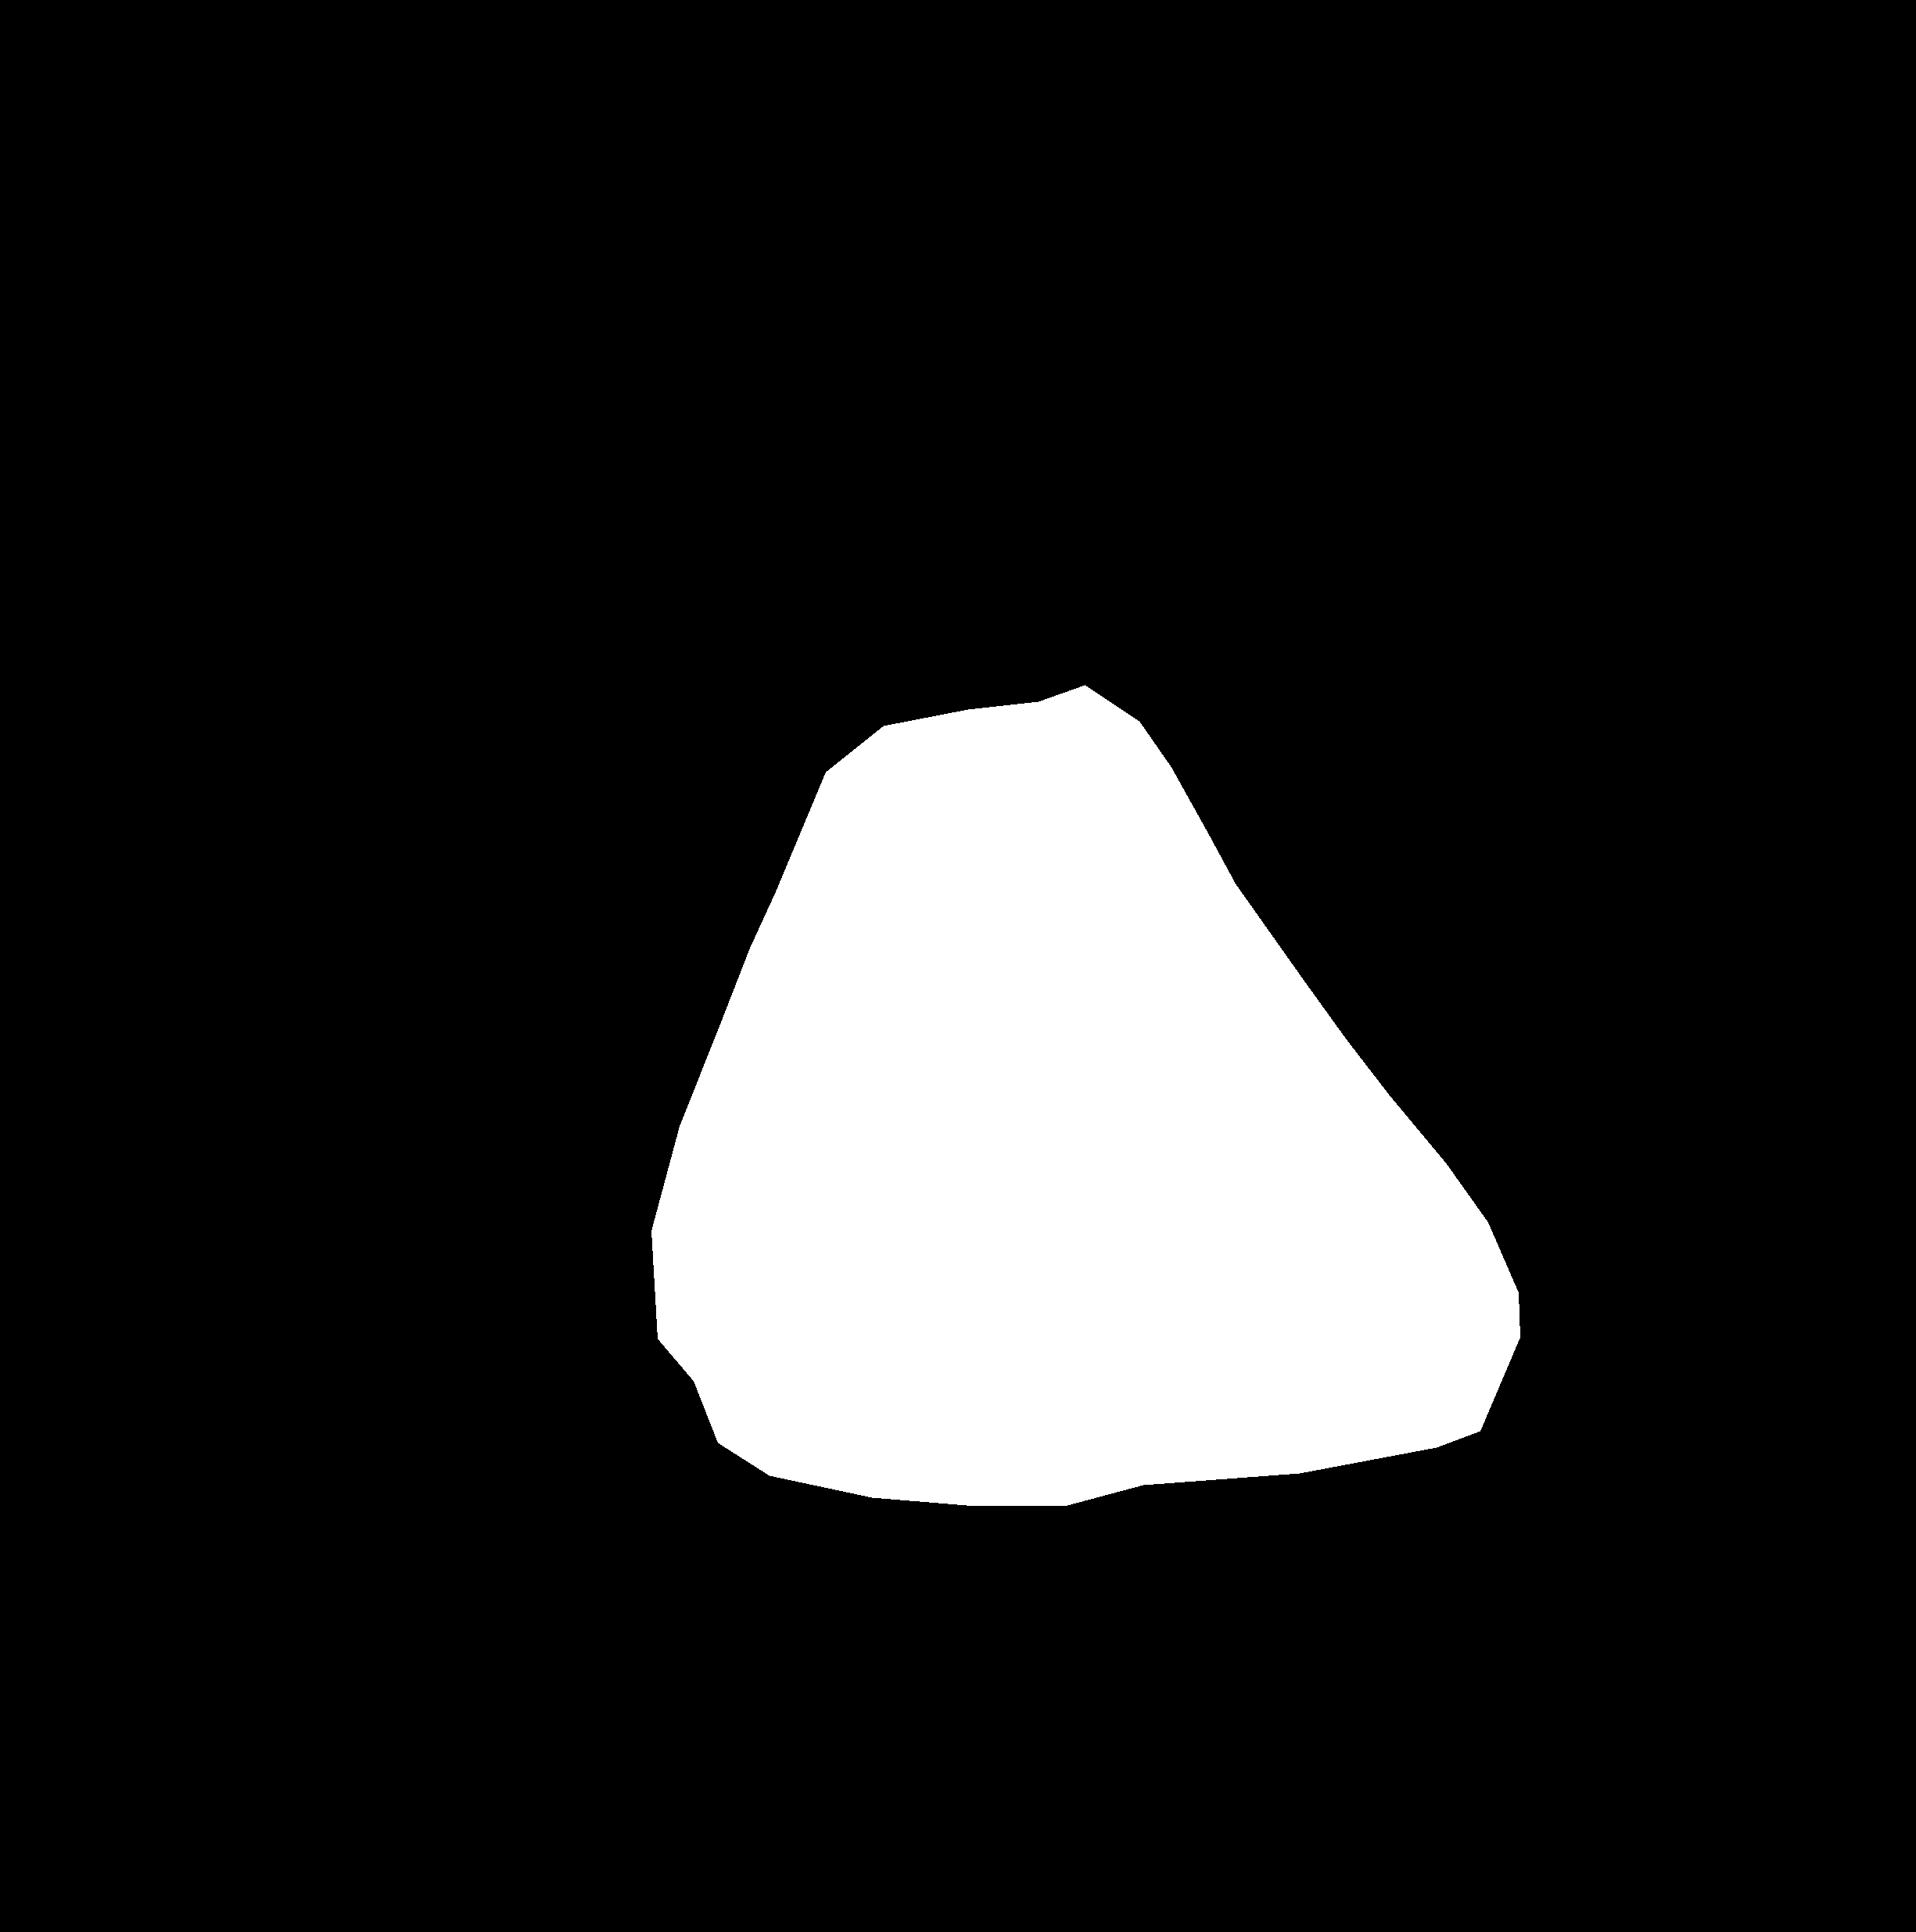heart: (651, 684, 1519, 1506)
left_lung: (154, 132, 932, 1653)
right_lung: (1098, 165, 1672, 1579)
